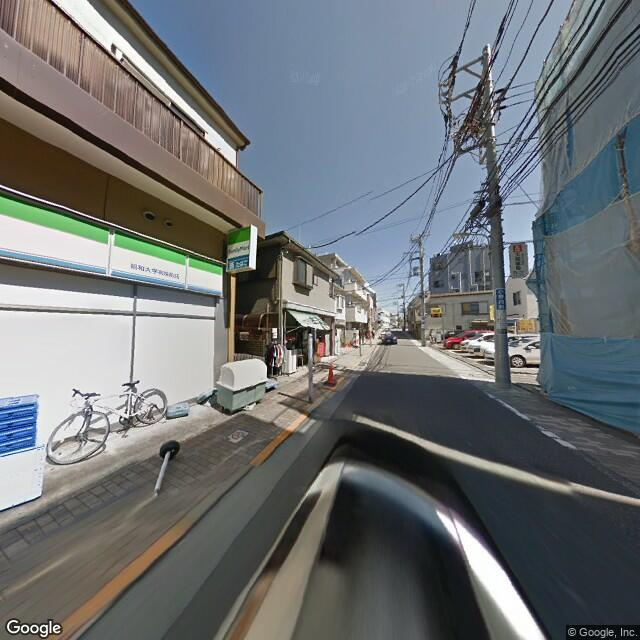family_mart: (1, 196, 223, 299), (225, 222, 254, 270)
